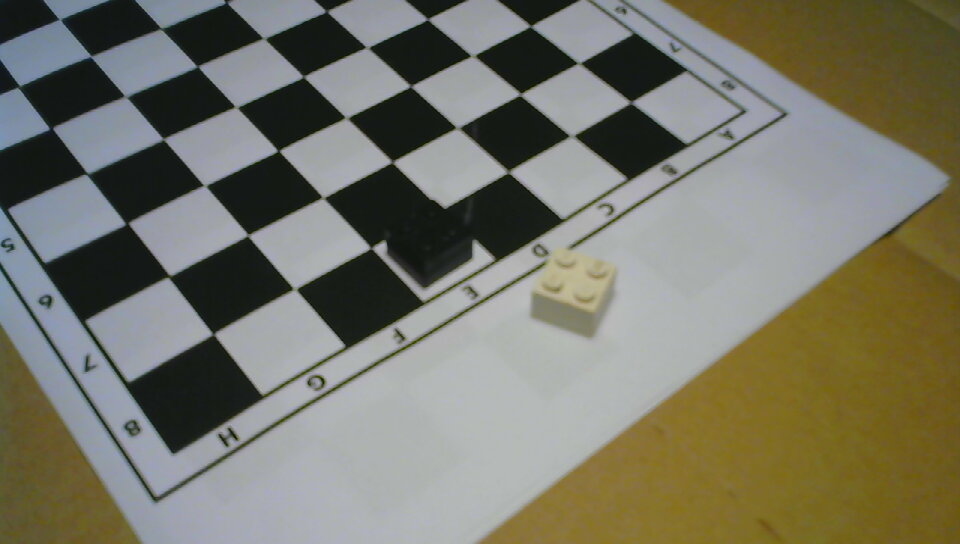bp: (385, 200, 474, 286)
wp: (530, 248, 616, 340)
